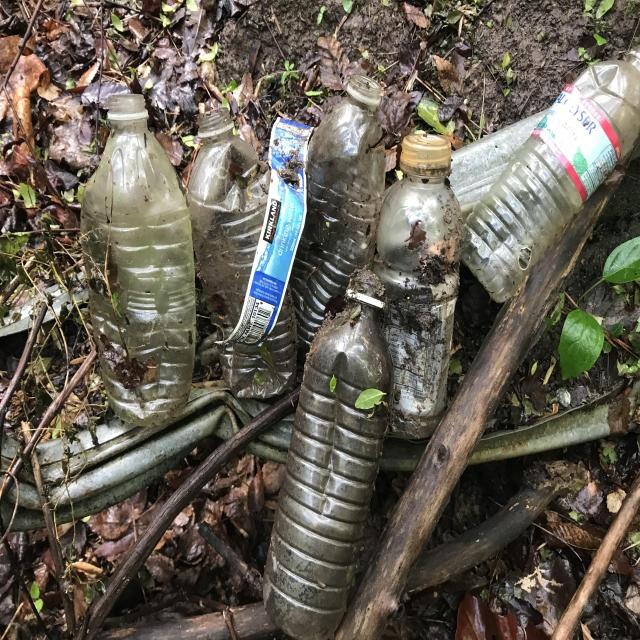litter: (80, 93, 206, 427)
